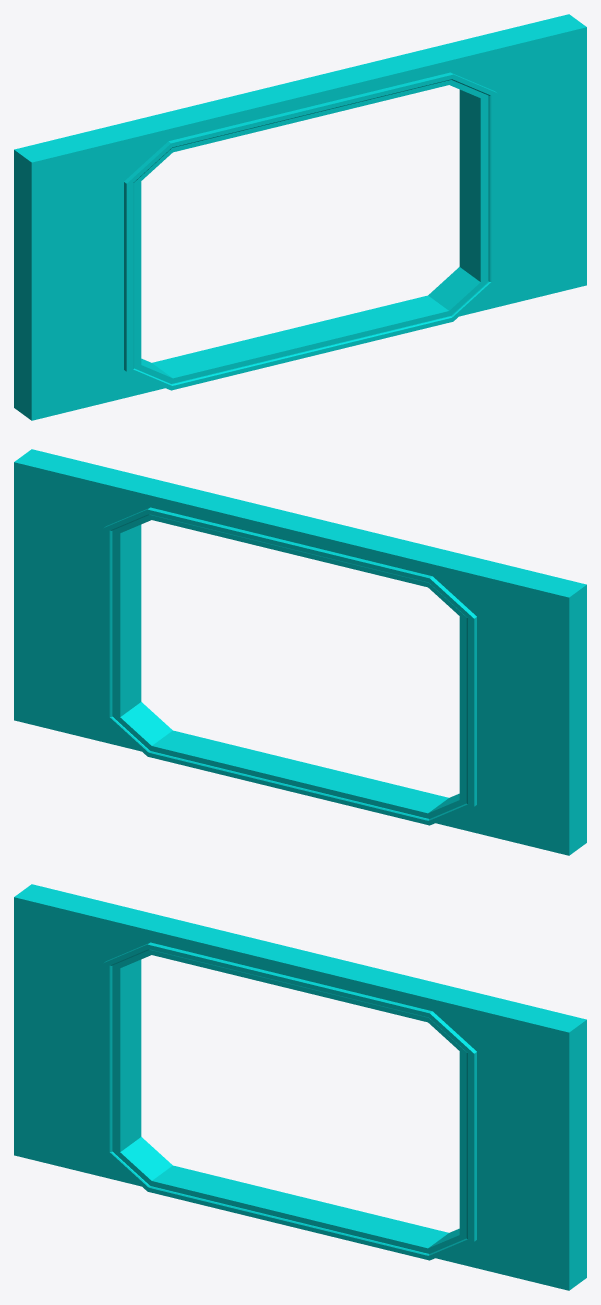
File: Wall_door_Big.fbx
3 views of the same model, one above another, from view 1: azimuth 30°, elevation 25°; view 2: azimuth 150°, elevation 25°; view 3: azimuth 330°, elevation 25° (orthographic).
Visible parts, largest first — view 1: Big_Door_wall.001, Big_door_frame.001; view 2: Big_Door_wall.001, Big_door_frame.001; view 3: Big_Door_wall.001, Big_door_frame.001.
Part boxes in pixels (box(x1,y1,x2,y2)): Big_Door_wall.001: box(14, 14, 586, 420); Big_door_frame.001: box(124, 72, 497, 390); Big_Door_wall.001: box(14, 449, 586, 855); Big_door_frame.001: box(103, 507, 476, 825); Big_Door_wall.001: box(14, 884, 586, 1290); Big_door_frame.001: box(103, 942, 476, 1260).
Bounding box in the file's own units: 900 × 401 × 66.16.
